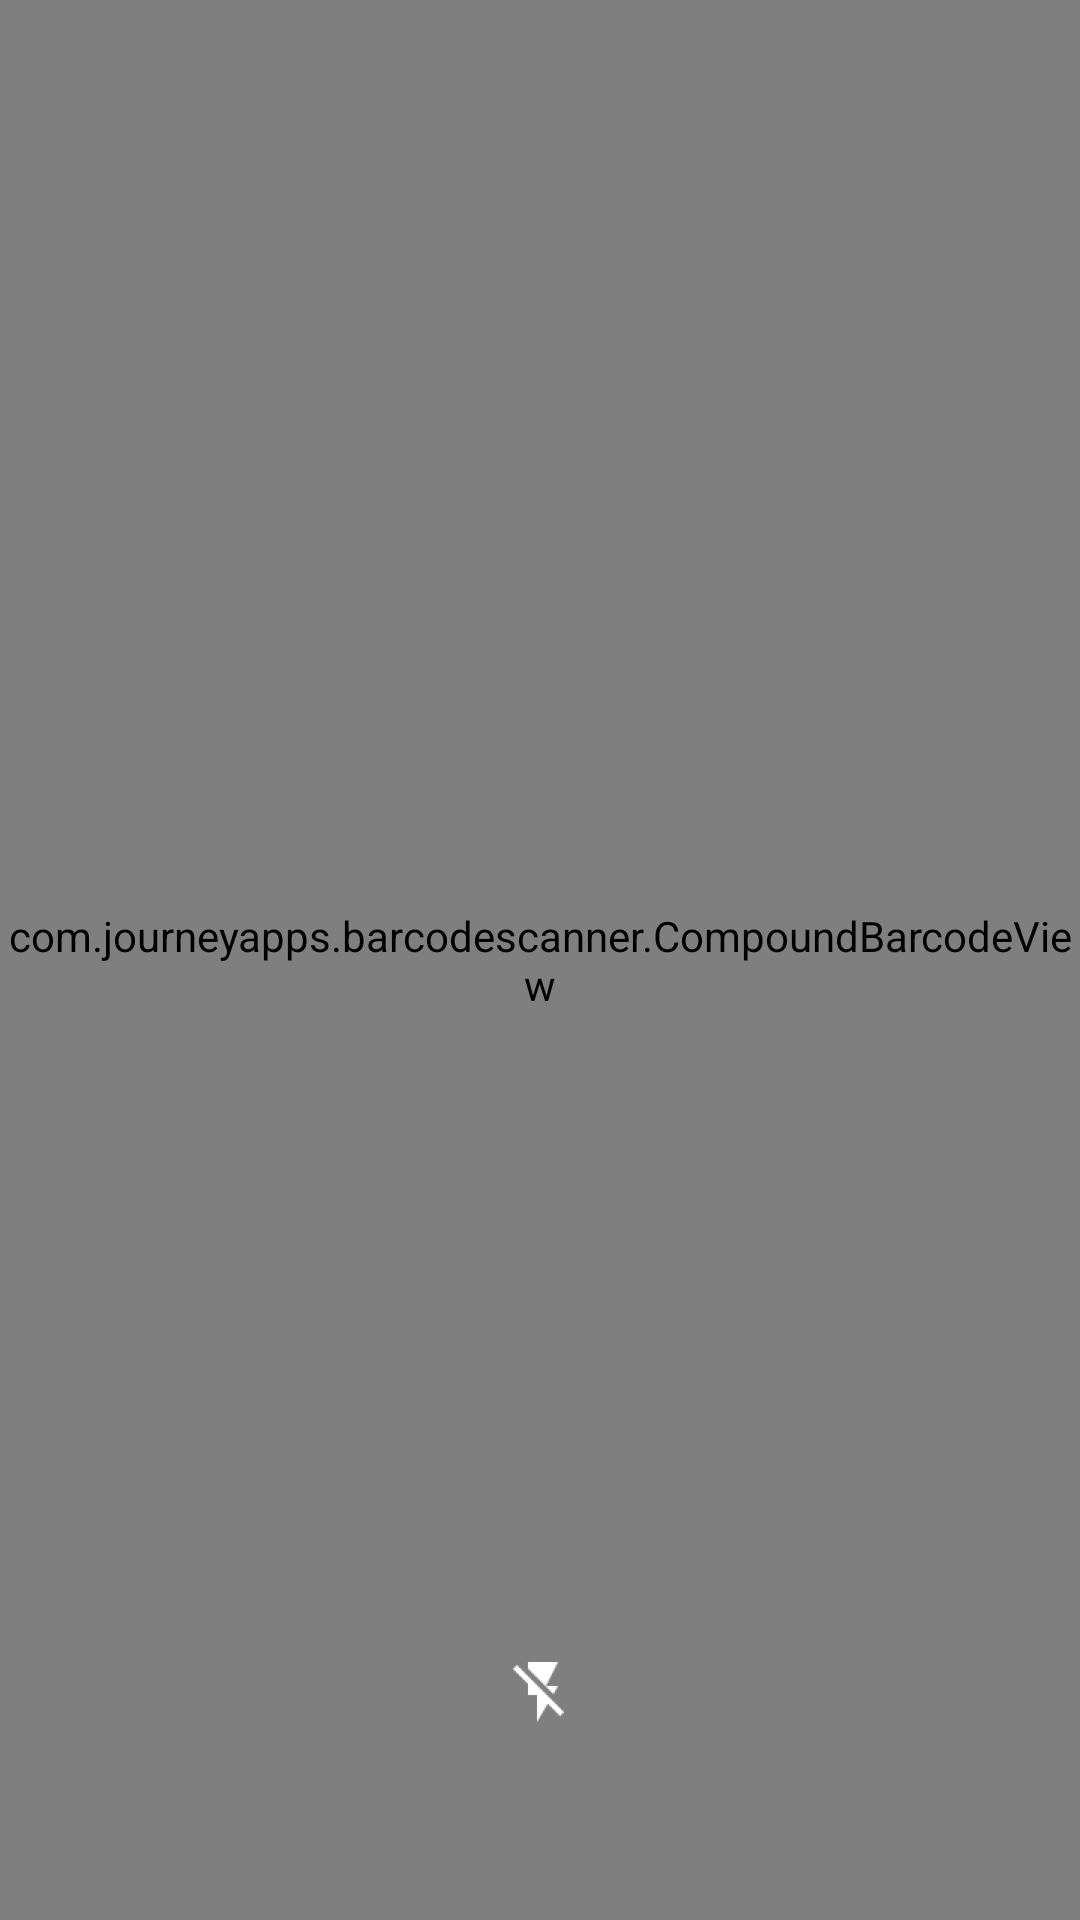

Where to tap for icons on this 1080px x 1920px app screen, as (x,y):
flash off: (538,1692)
